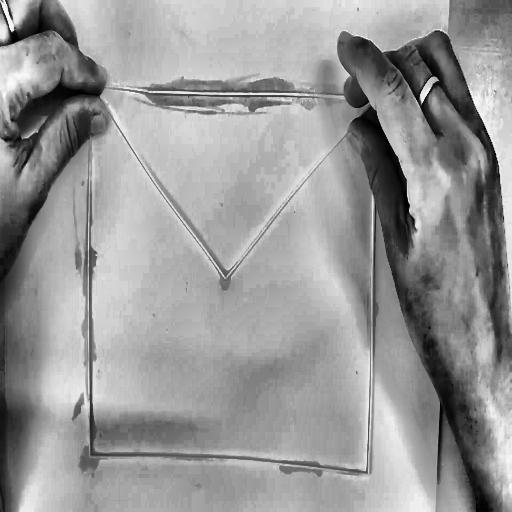envelop: (70, 73, 387, 479)
